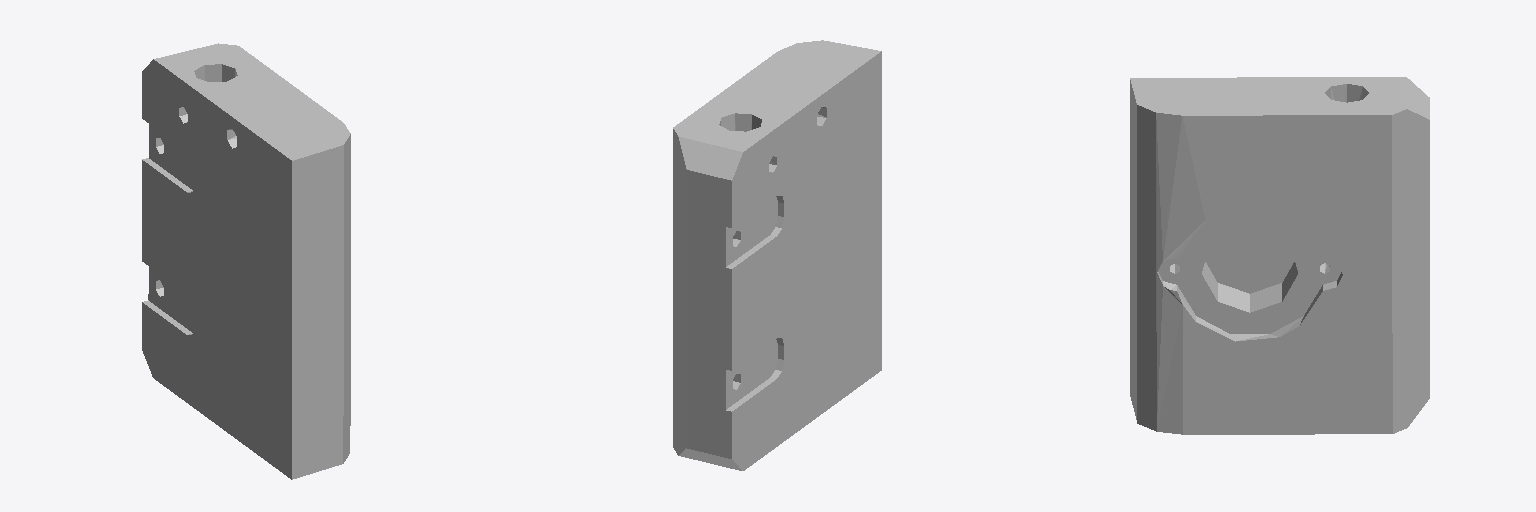
File: legr_heel_joint.obj
3 views of the same model, side by side, from view 1: azimuth 30°, elevation 25°; view 2: azimuth 150°, elevation 25°; view 3: azimuth 270°, elevation 25° (orthographic).
Size of the model in its own units: 0.012 by 0.0471 by 0.0401.